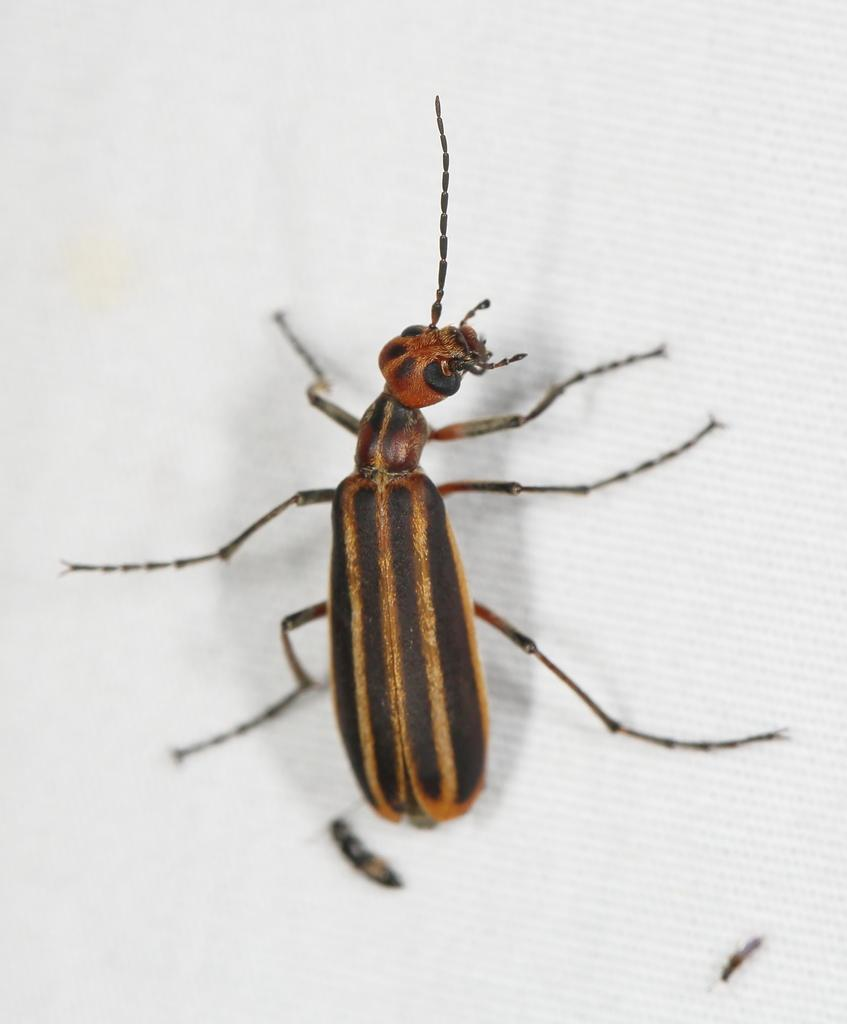blister_beetle: (0, 51, 847, 927)
